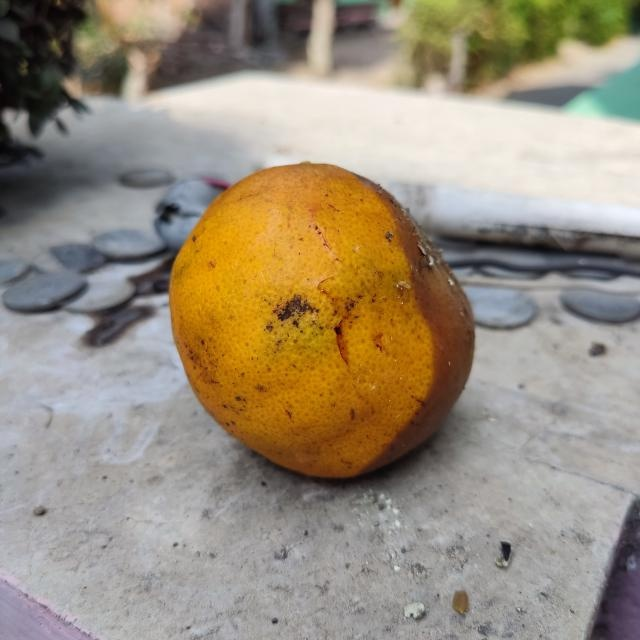agrume: (165, 160, 479, 488)
